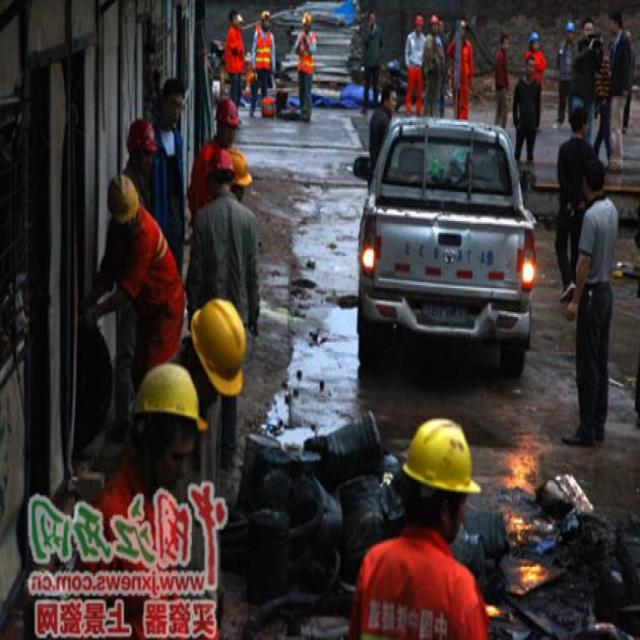Reflective-Jacket: (292, 31, 316, 80), (254, 28, 272, 68)
Safety-Helmet: (402, 413, 479, 497), (190, 294, 248, 398), (130, 360, 203, 430), (204, 139, 260, 204), (108, 172, 138, 223), (126, 118, 156, 152), (215, 95, 241, 126)
